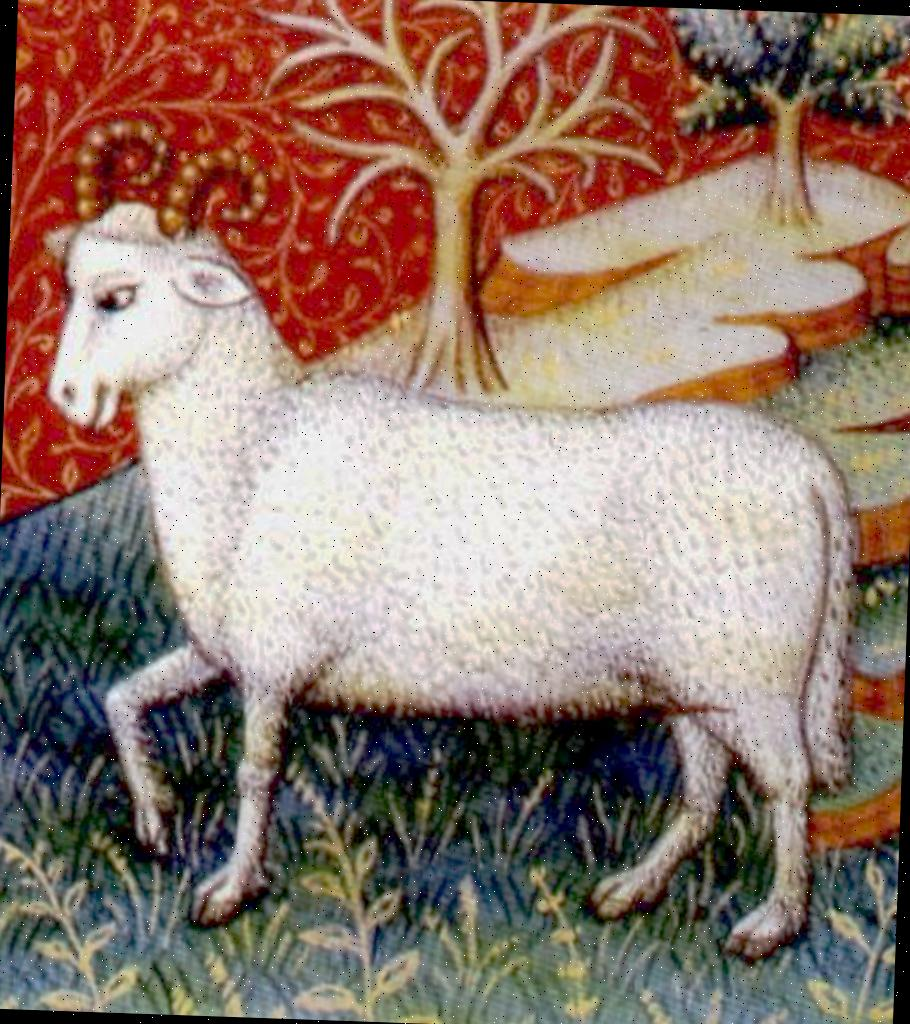Sheep: (21, 119, 873, 972)
